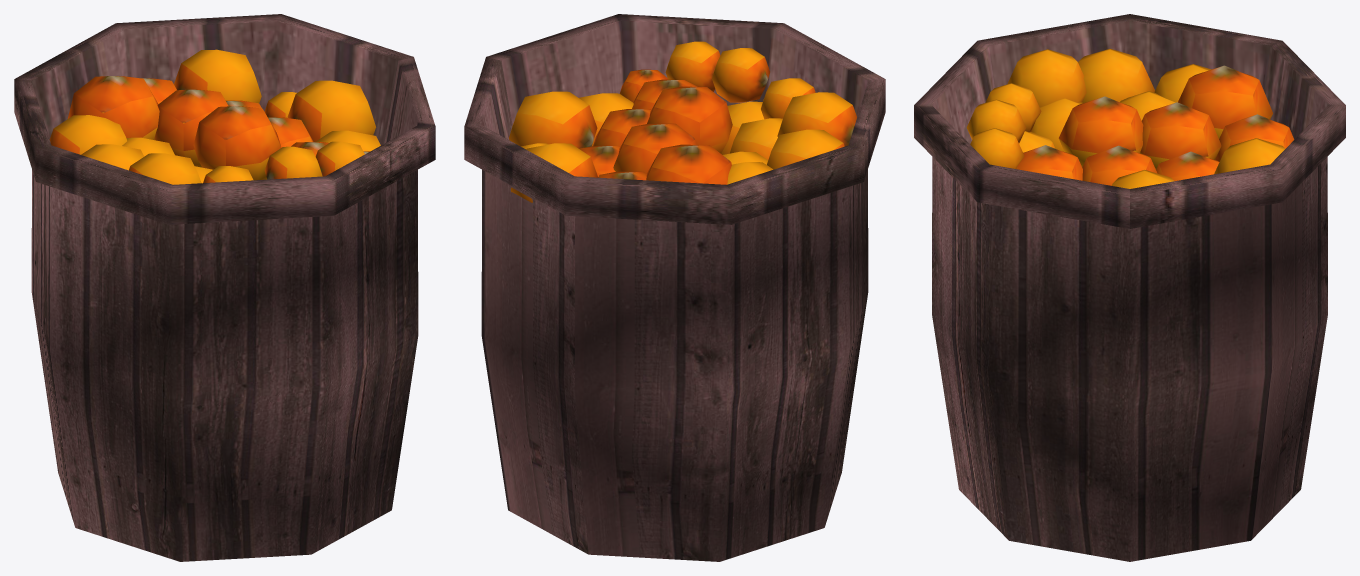
File: VasilhaDeLaranjas.fbx
3 renders of one model, left to right at view 1: azimuth 30°, elevation 25°; view 2: azimuth 150°, elevation 25°; view 3: azimuth 270°, elevation 25°, orthographic.
Parts seen in each view (by area): view 1: Vasilha, Laranjas; view 2: Vasilha, Laranjas; view 3: Vasilha, Laranjas.
Part boxes in pixels (box(x1,y1,x2,y2)): Vasilha: box(14, 14, 435, 561); Laranjas: box(49, 49, 380, 184); Vasilha: box(464, 14, 885, 561); Laranjas: box(509, 41, 856, 202); Vasilha: box(914, 14, 1345, 561); Laranjas: box(966, 48, 1294, 188).
Bounding box in the file's own units: 88.71 × 88.71 × 88.96.
